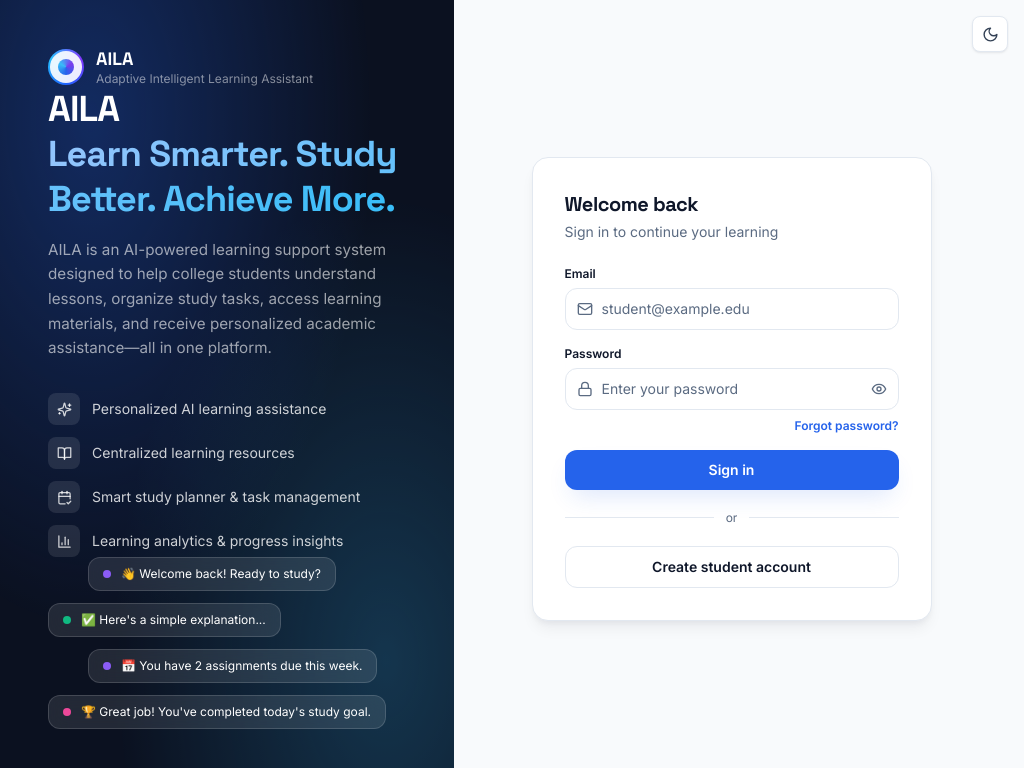
Test: LoginPage › a wrong password does NOT show the resend option (only EMAIL_NOT_VERIFIED does)
In the field with placeholder "student@example.edu": (732,308) [564,288,898,330], type "ada@example.com"
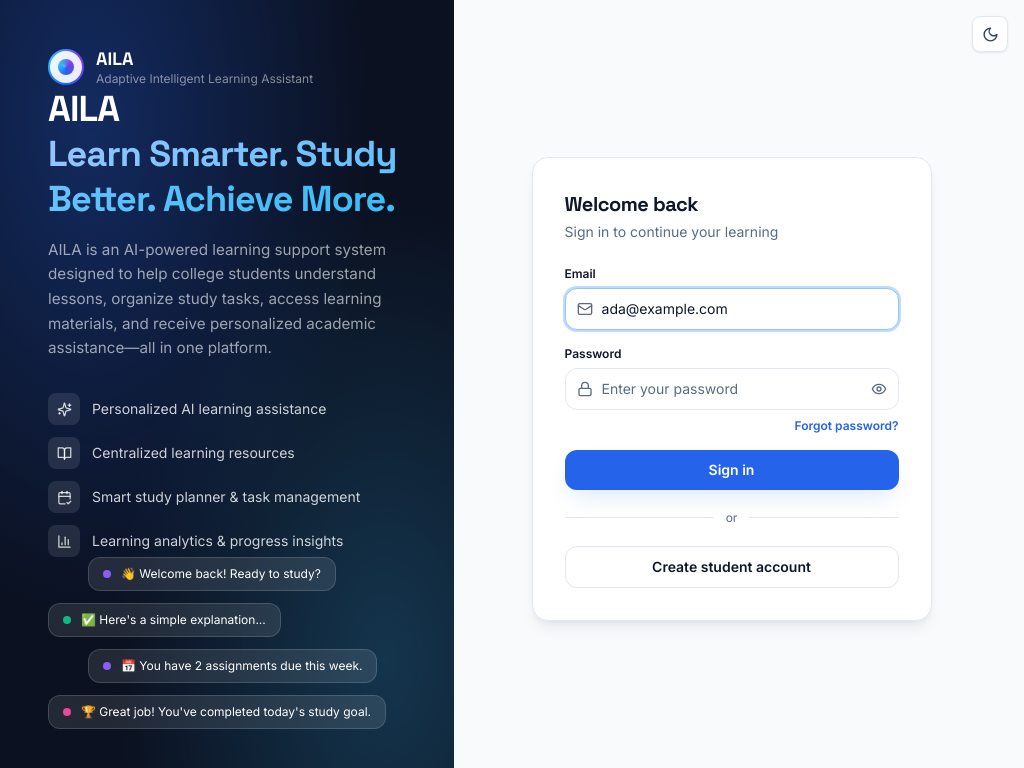
In the password field with placeholder "Enter your password": (732,388) [564,368,898,410], type "Password1!"
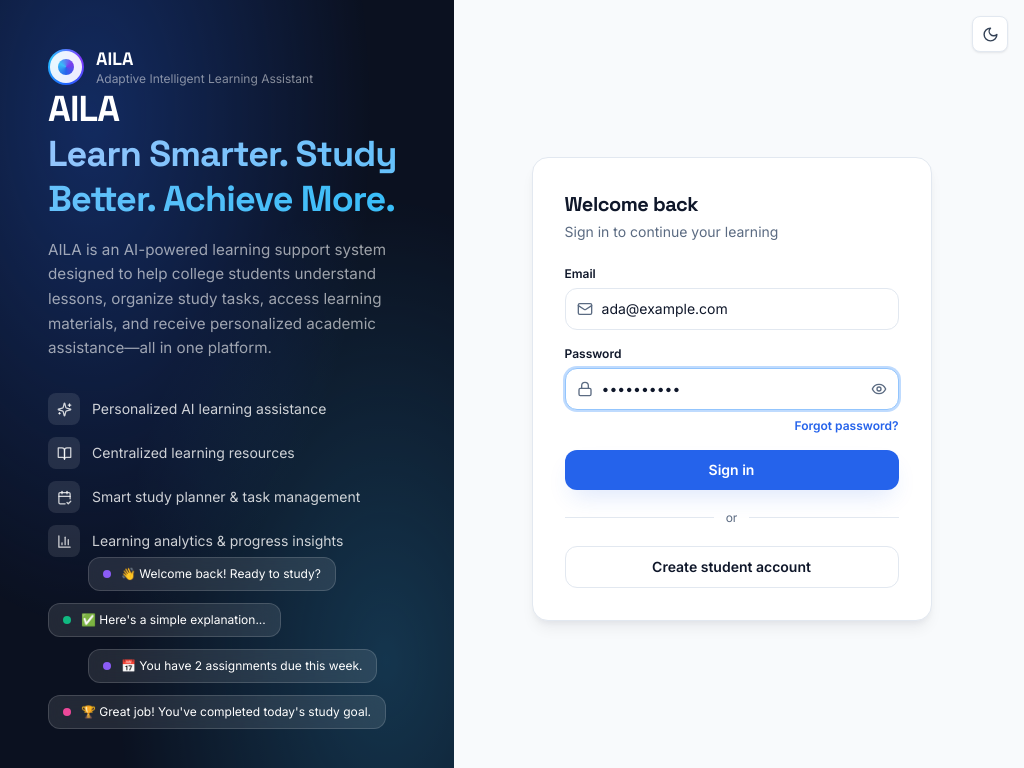
Click the button "Sign in": (732,470) [564,450,898,490]
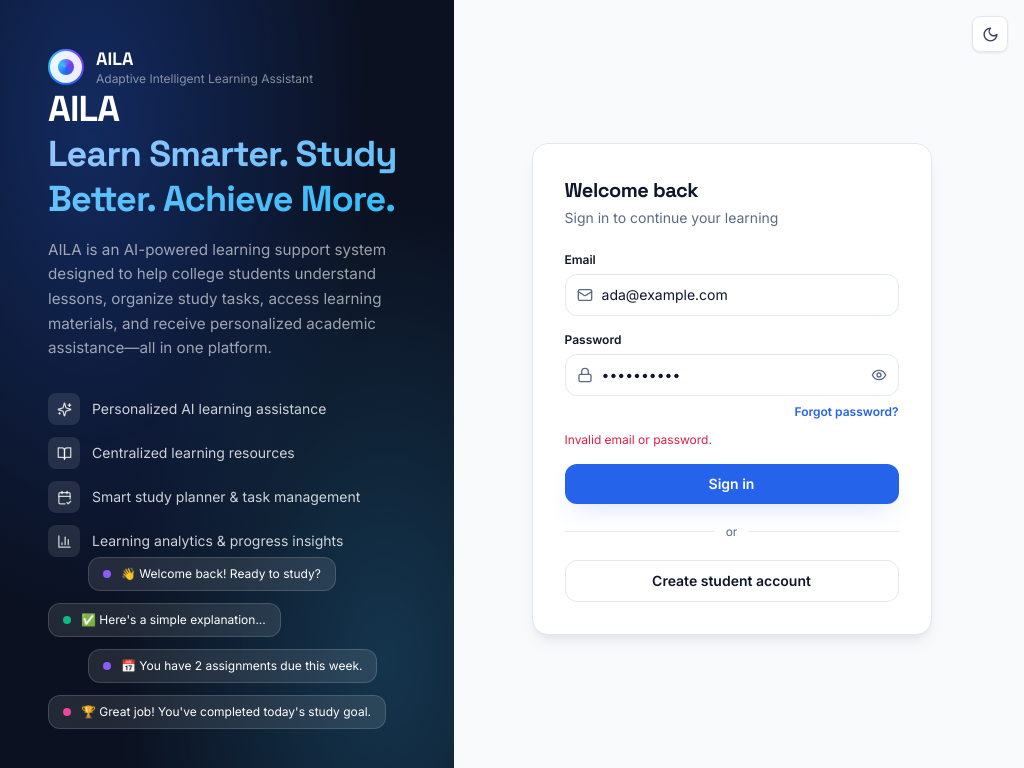
Expected: the text "Invalid email or password." is shown, [564,432,712,446]
